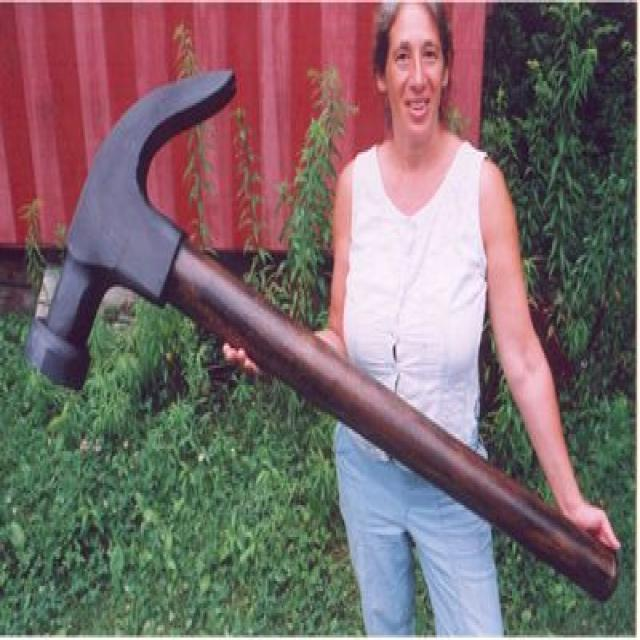hammer: (15, 58, 630, 603)
